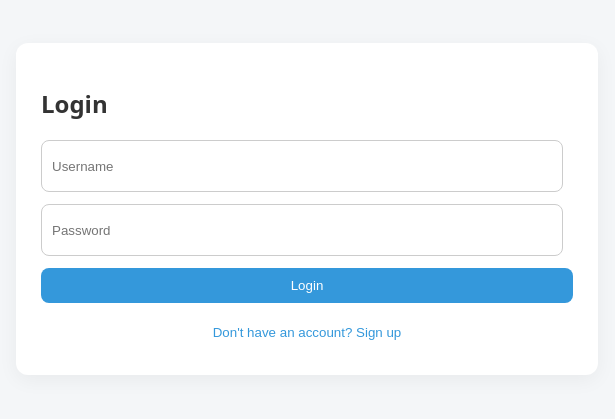
Test: AuthForm Component › shows error message when authentication fails
Type "testuser" into the field with placeholder "Username". click: (302, 166)
box: [41,140,563,192]
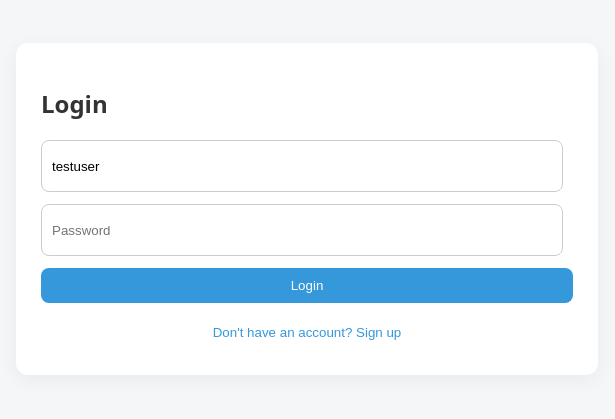
Type "wrongpassword" into the password field with placeholder "Password". click: (302, 230)
box: [41,204,563,256]
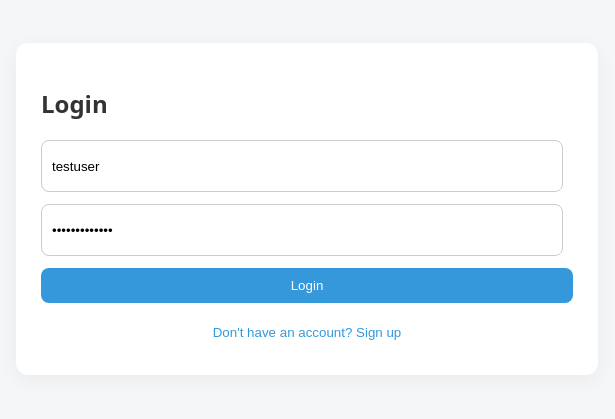
Click the button "Login". click: click(307, 286)
box: [41,268,573,304]
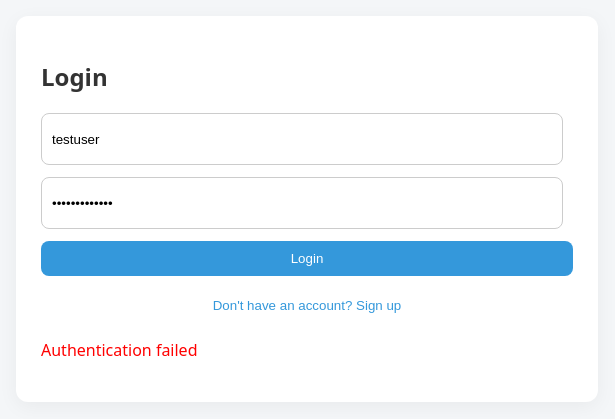
Check: the text "Authentication failed" is shown, box [41,340,198,362]
